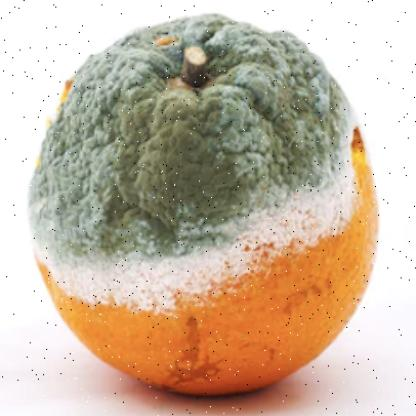rotten: (31, 13, 377, 397)
